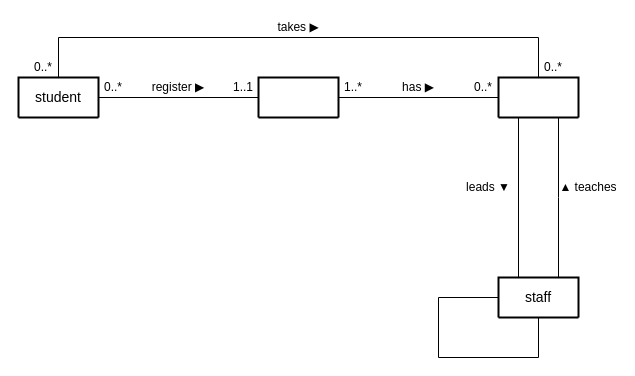
The diagram is 635 pixels wide and 376 high, and some of its shapes have lost their labels. Here are the shapes that lost their labels. From the top down, the centre of each, then its label:
At [298,97]: "course".
At [538,97]: "module".
